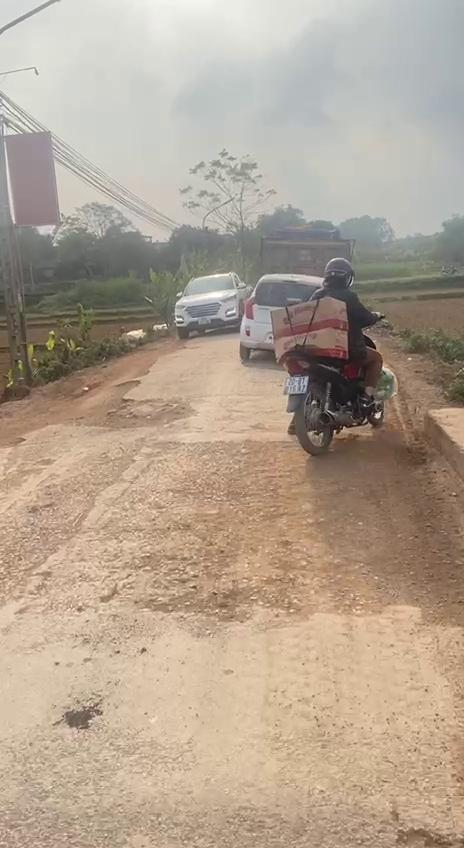pothole: (44, 377, 195, 437)
